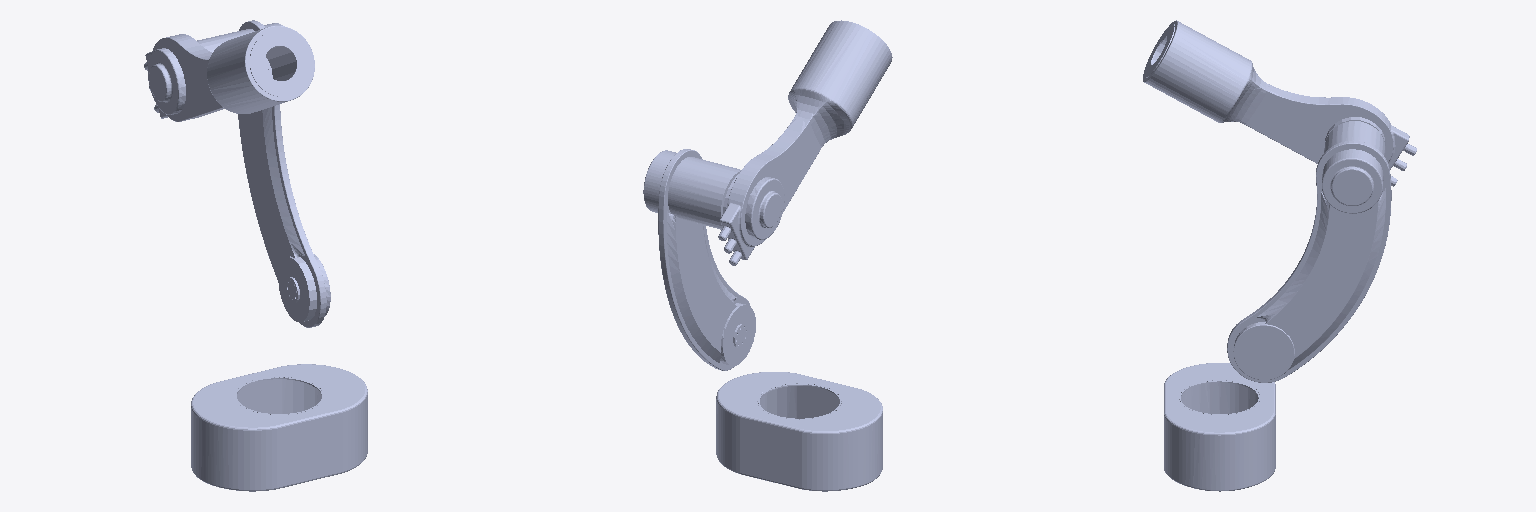
URDF robot description (4axis_robot):
<?xml version="1.0" encoding="utf-8"?>
<robot
  name="4axis_robot">
  <link
    name="base_link">
    <inertial>
      <origin
        xyz="-0.0819771145953124 -0.0394328123681596 -0.0605612328464758"
        rpy="0 0 0" />
      <mass
        value="7.43807257011137" />
      <inertia
        ixx="0.33173827700719"
        ixy="-1.9135079863359E-05"
        ixz="-2.38586363043419E-05"
        iyy="0.51093790700966"
        iyz="1.14706407748212E-05"
        izz="0.661072726327959" />
    </inertial>
    <visual>
      <origin
        xyz="0 0 0"
        rpy="0 0 0" />
      <geometry>
        <mesh
          filename="package://cpp06_urdf/meshes/base_link.STL" />
      </geometry>
      <material
        name="">
        <color
          rgba="0.792156862745098 0.819607843137255 0.933333333333333 1" />
      </material>
    </visual>
    <collision>
      <origin
        xyz="0 0 0"
        rpy="0 0 0" />
      <geometry>
        <mesh
          filename="package://cpp06_urdf/meshes/base_link.STL" />
      </geometry>
    </collision>
  </link>
  <link
    name="Link1">
    <inertial>
      <origin
        xyz="-0.181408083975973 0.0581405834318814 -0.00954482706978561"
        rpy="0 0 0" />
      <mass
        value="21.8220304142984" />
      <inertia
        ixx="0.504636458557709"
        ixy="0.155628988709401"
        ixz="-0.0329547833491183"
        iyy="0.553116042516836"
        iyz="0.0317725740787119"
        izz="0.679054189085337" />
    </inertial>
    <visual>
      <origin
        xyz="0 0 0"
        rpy="0 0 0" />
      <geometry>
        <mesh
          filename="package://cpp06_urdf/meshes/Link1.STL" />
      </geometry>
      <material
        name="">
        <color
          rgba="0.792156862745098 0.819607843137255 0.933333333333333 1" />
      </material>
    </visual>
    <collision>
      <origin
        xyz="0 0 0"
        rpy="0 0 0" />
      <geometry>
        <mesh
          filename="package://cpp06_urdf/meshes/Link1.STL" />
      </geometry>
    </collision>
  </link>
  <joint
    name="Joint1"
    type="revolute">
    <origin
      xyz="-0.081947 -0.039447 0.12191"
      rpy="0.031307 1.5708 0" />
    <parent
      link="base_link" />
    <child
      link="Link1" />
    <axis
      xyz="-1 0 0" />
    <limit
      lower="-3.14"
      upper="3.14"
      effort="100"
      velocity="1" />
  </joint>
  <link
    name="Link2">
    <inertial>
      <origin
        xyz="0.00711588212779668 0.430462624171802 -0.181072168675245"
        rpy="0 0 0" />
      <mass
        value="30.611698680693" />
      <inertia
        ixx="2.84056184663837"
        ixy="0.00176708532036297"
        ixz="-0.000605585595495953"
        iyy="0.803420570623051"
        iyz="0.881921717620968"
        izz="2.25142106377957" />
    </inertial>
    <visual>
      <origin
        xyz="0 0 0"
        rpy="0 0 0" />
      <geometry>
        <mesh
          filename="package://cpp06_urdf/meshes/Link2.STL" />
      </geometry>
      <material
        name="">
        <color
          rgba="0.792156862745098 0.819607843137255 0.933333333333333 1" />
      </material>
    </visual>
    <collision>
      <origin
        xyz="0 0 0"
        rpy="0 0 0" />
      <geometry>
        <mesh
          filename="package://cpp06_urdf/meshes/Link2.STL" />
      </geometry>
    </collision>
  </link>
  <joint
    name="Joint2"
    type="revolute">
    <origin
      xyz="-0.34141 0.21122 0.232"
      rpy="2.3823 1.5708 2.9781" />
    <parent
      link="Link1" />
    <child
      link="Link2" />
    <axis
      xyz="-1 0 0" />
    <limit
      lower="-3.14"
      upper="3.14"
      effort="100"
      velocity="1" />
  </joint>
  <link
    name="Link3">
    <inertial>
      <origin
        xyz="0.0011288679773169 0.0366346901842278 0.317203297355097"
        rpy="0 0 0" />
      <mass
        value="32.1927283247081" />
      <inertia
        ixx="4.01515992838776"
        ixy="0.00131937245345131"
        ixz="0.0113529681997448"
        iyy="3.86196322052592"
        iyz="-0.336440031503833"
        izz="0.399977912527002" />
    </inertial>
    <visual>
      <origin
        xyz="0 0 0"
        rpy="0 0 0" />
      <geometry>
        <mesh
          filename="package://cpp06_urdf/meshes/Link3.STL" />
      </geometry>
      <material
        name="">
        <color
          rgba="0.792156862745098 0.819607843137255 0.933333333333333 1" />
      </material>
    </visual>
    <collision>
      <origin
        xyz="0 0 0"
        rpy="0 0 0" />
      <geometry>
        <mesh
          filename="package://cpp06_urdf/meshes/Link3.STL" />
      </geometry>
    </collision>
  </link>
  <joint
    name="Joint3"
    type="revolute">
    <origin
      xyz="0.3765 0.82481 -0.49591"
      rpy="2.6936 0 0" />
    <parent
      link="Link2" />
    <child
      link="Link3" />
    <axis
      xyz="1 0 0" />
    <limit
      lower="-3.14"
      upper="3.14"
      effort="100"
      velocity="1" />
  </joint>
  <link
    name="Link4">
    <inertial>
      <origin
        xyz="0.16252 -0.21385 2.9168E-07"
        rpy="0 0 0" />
      <mass
        value="12.165" />
      <inertia
        ixx="0.28821"
        ixy="0.00080328"
        ixz="8.1167E-07"
        iyy="0.107"
        iyz="-1.4214E-07"
        izz="0.29515" />
    </inertial>
    <visual>
      <origin
        xyz="0 0 0"
        rpy="0 0 0" />
      <geometry>
        <mesh
          filename="package://cpp06_urdf/meshes/Link4.STL" />
      </geometry>
      <material
        name="">
        <color
          rgba="0.79216 0.81961 0.93333 1" />
      </material>
    </visual>
    <collision>
      <origin
        xyz="0 0 0"
        rpy="0 0 0" />
      <geometry>
        <mesh
          filename="package://cpp06_urdf/meshes/Link4.STL" />
      </geometry>
    </collision>
  </link>
  <joint
    name="Joint4"
    type="revolute">
    <origin
      xyz="0 0.070837 0.99728"
      rpy="0.7098 -1.5708 0" />
    <parent
      link="Link3" />
    <child
      link="Link4" />
    <axis
      xyz="1 0 0" />
    <limit
      lower="-3.14"
      upper="3.14"
      effort="100"
      velocity="1" />
  </joint>
</robot>

--- What the picture shows (computed from the rendered views, not written in the file) ---
The picture shows the robot from 3 angles, left to right: view 1: azimuth 30°, elevation 25°; view 2: azimuth 150°, elevation 25°; view 3: azimuth 270°, elevation 25°; orthographic projection.
Model 4axis_robot with 5 links and 4 joints (4 revolute), rooted at base_link, posed all joints at 0.
Visible links, largest first — view 1: base_link, Link3, Link2; view 2: base_link, Link3, Link2; view 3: Link2, Link3, base_link.
Link boxes in pixels (<box>): base_link: <box>191,364,367,491</box>; Link3: <box>144,26,314,121</box>; Link2: <box>197,20,330,327</box>; base_link: <box>716,372,882,491</box>; Link3: <box>718,20,892,265</box>; Link2: <box>643,149,755,370</box>; Link2: <box>1227,121,1391,382</box>; Link3: <box>1143,20,1416,186</box>; base_link: <box>1164,363,1275,491</box>.
Size in the robot's own frame: 0.7716 by 1.25 by 2.1 metres.
Meshes: 5 distinct files referenced, 3 mesh visuals loaded (3 binary STL); not drawn: 2 (reference not matched to a file when rendering).